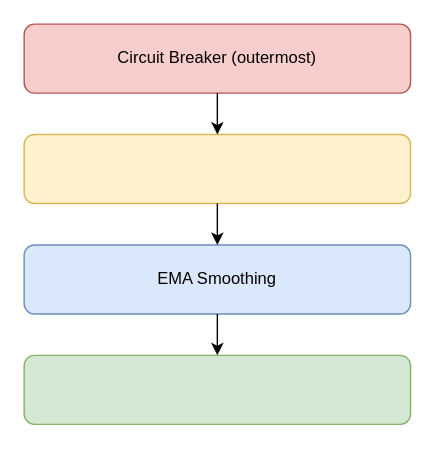
Some shapes in this 435 by 449 pixel diagram are drawn without their labels. Each missing label, with the centre of its shape:
"Base Provider (device)" belongs at [217,389].
"Retry Strategy" belongs at [217,168].
